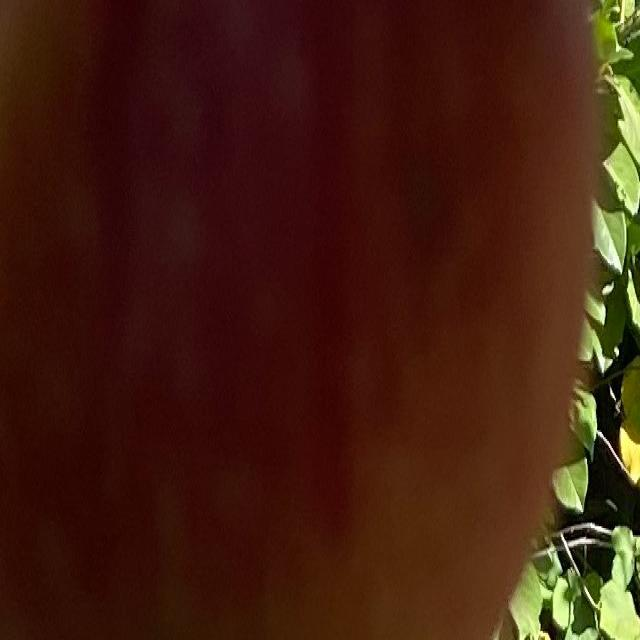Apples: (0, 0, 598, 638)
